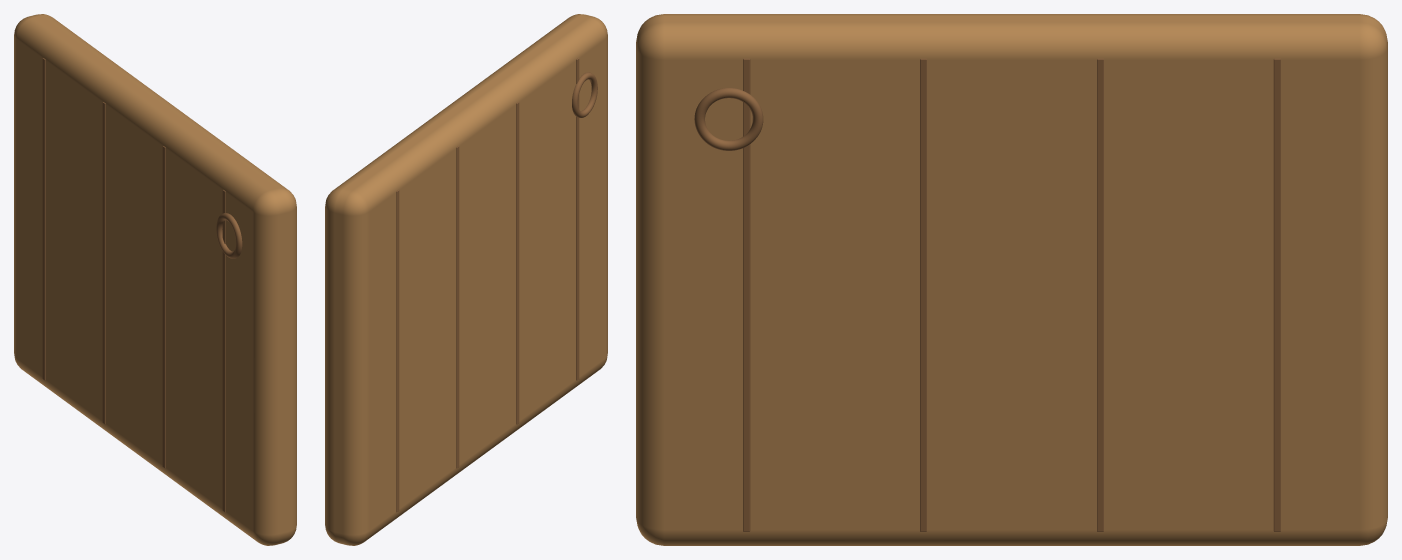
Rendered from board.glb.
The picture shows the model from 3 angles, left to right: view 1: azimuth 30°, elevation 25°; view 2: azimuth 150°, elevation 25°; view 3: azimuth 270°, elevation 25°; orthographic projection. The views are drawn at different scales.
Visible parts, largest first — view 1: wood, edge; view 2: wood, edge; view 3: wood, edge.
Boxes of the visible parts, x1,y1,x2,y2 form: wood: [14, 14, 296, 545]; edge: [42, 58, 242, 512]; wood: [325, 14, 607, 545]; edge: [396, 58, 597, 512]; wood: [636, 14, 1387, 545]; edge: [694, 58, 1280, 531].
Size of the model in its own units: 0.0954 by 0.65 by 0.85.
